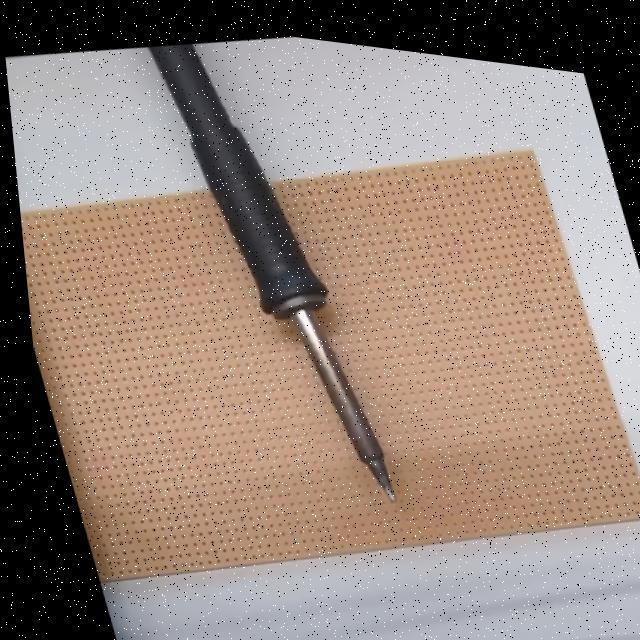soldering_iron: (144, 21, 408, 521)
